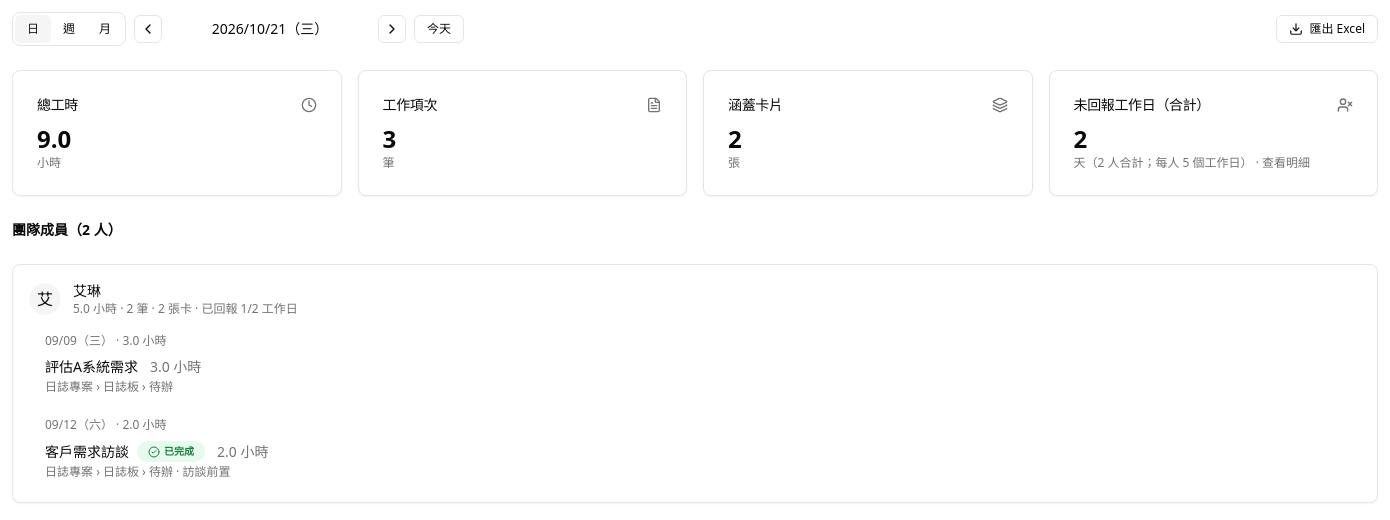
WorkLogReport › 週模式列出未回報的工作日且不可展開
Expected: the text "評估A系統需求" is shown, [45,357,138,377]
What coordinates should you click on to do the following:
click the button "週"
I would click on:
 (69, 29)
Its box is [51,15,87,43].
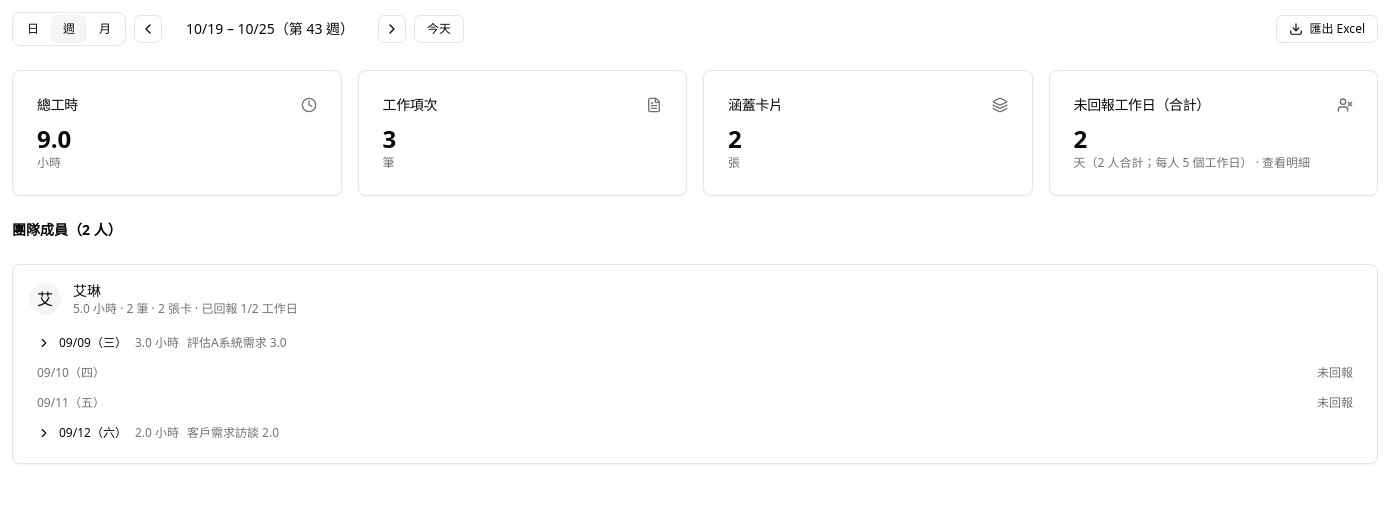
Expected: the button "09/09（三） 3.0 小時 評估A系統需求 3.0" does not show "未回報", [29,329,1361,357]
Result: the text "未回報" is shown 2 times at [1317,365,1353,381]; [1317,395,1353,411]
